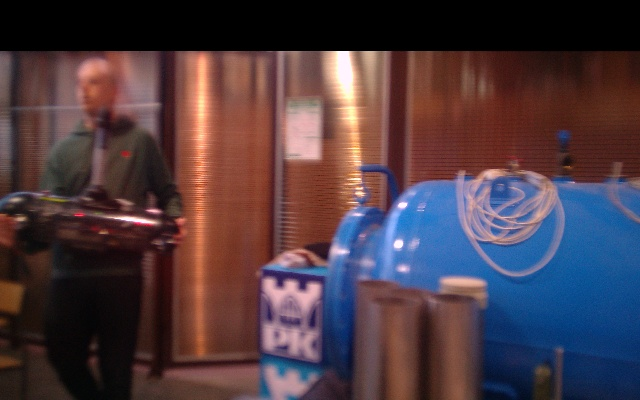black: (93, 143, 105, 195)
